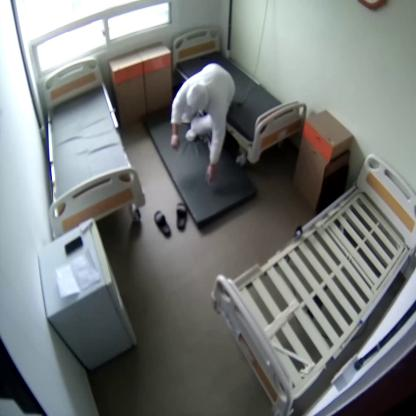Person: (171, 63, 234, 184)
